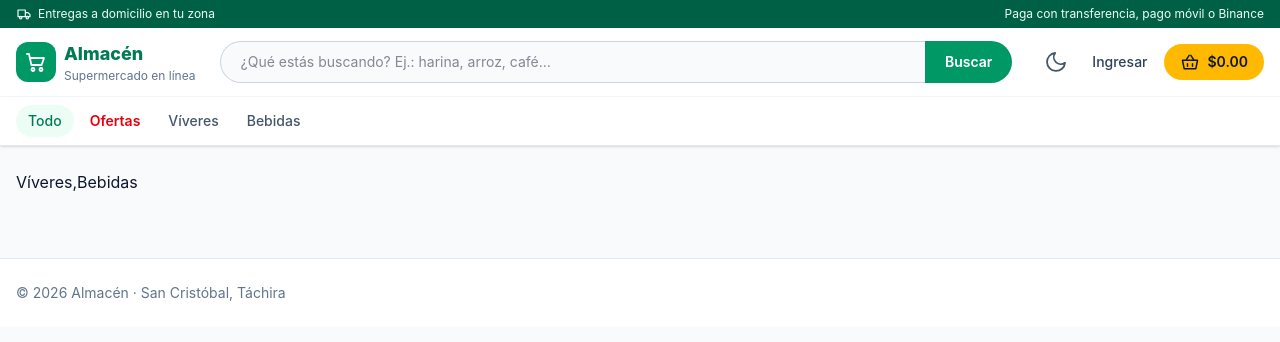
Test: TiendaLayout: buscador › se puede buscar con la tecla Enter
This screenshot has width=1280, height=342.
In the search field named "Buscar productos": (572, 62) [220,41,925,83], type "café"
Then press Enter
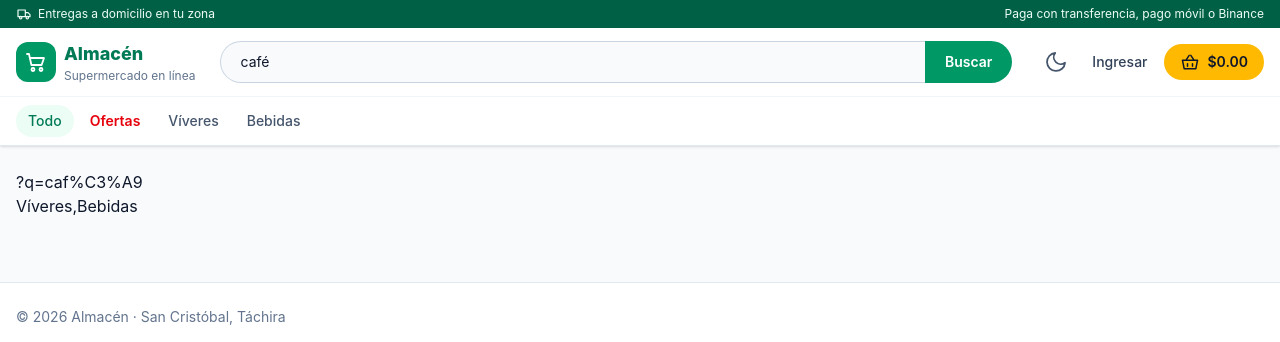
Now the text with test id "busqueda" reads "?q=caf%C3%A9", box [16,172,143,192]
